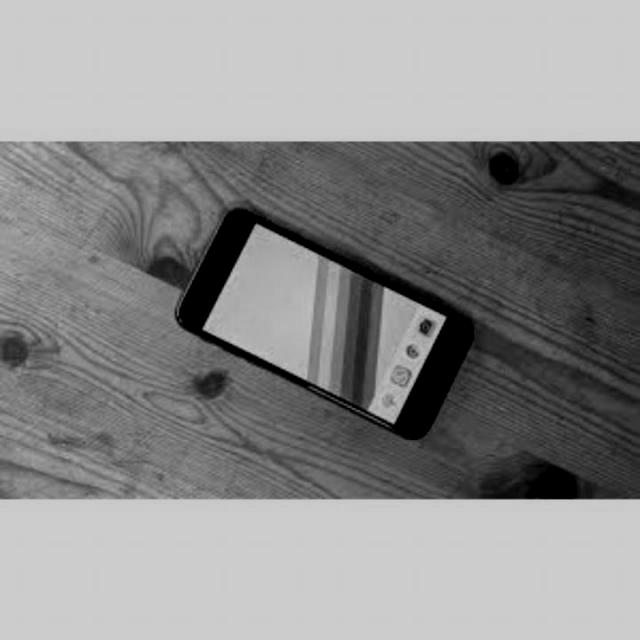fake: (176, 204, 478, 446)
